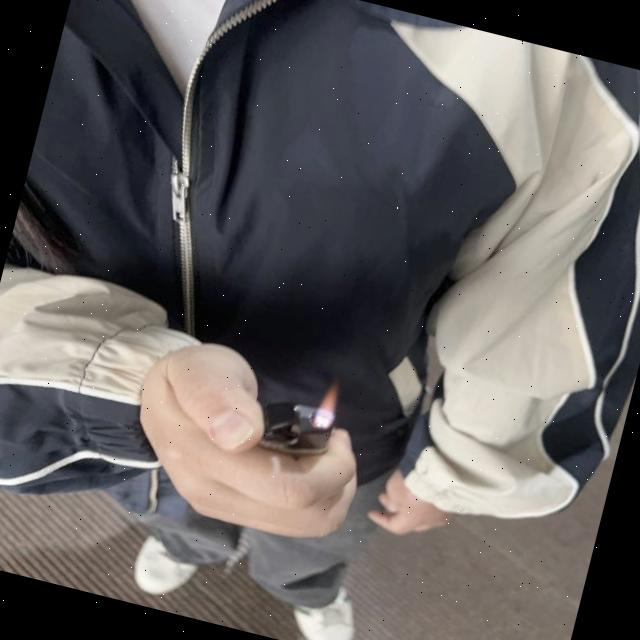fire: (309, 380, 342, 430)
